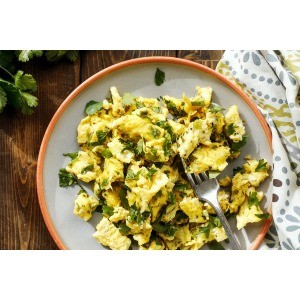egg_brain food: (102, 134, 173, 220)
